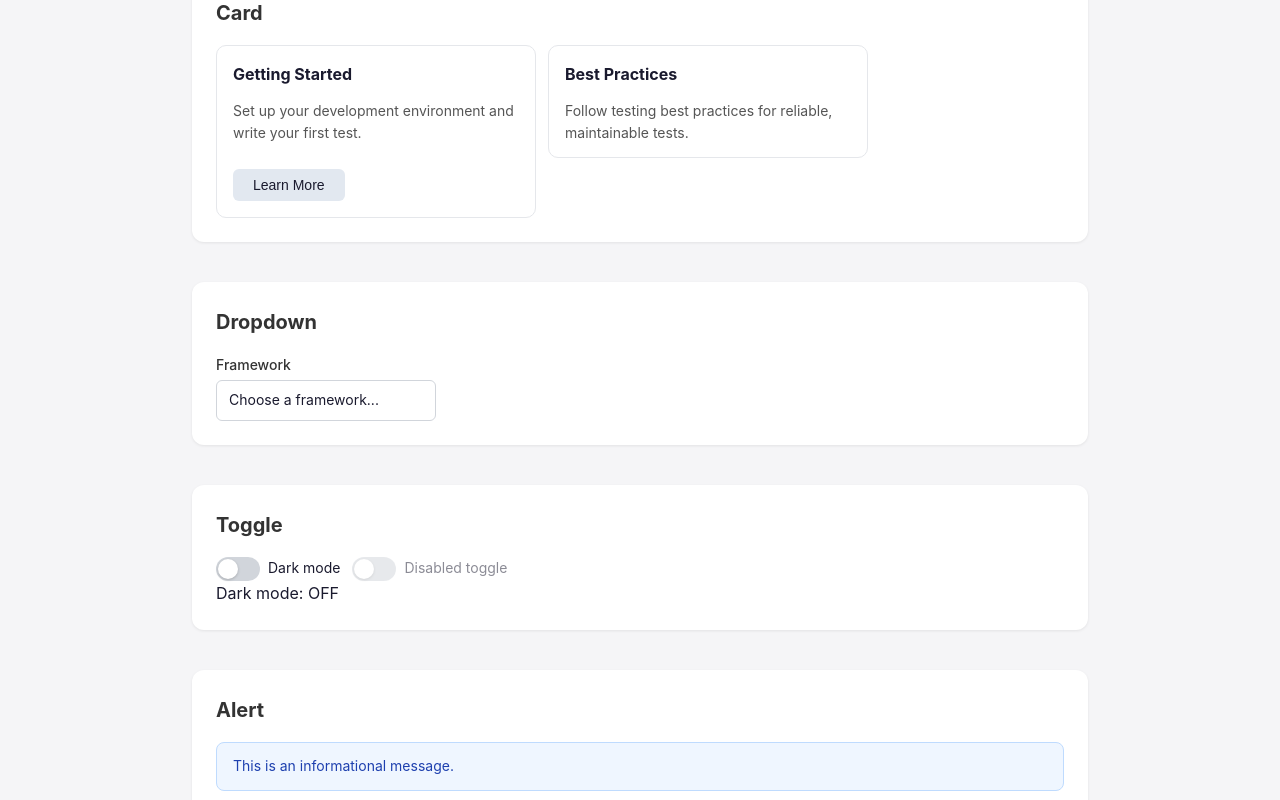
it: App integration › selects a dropdown value and toggles dark mode
The image size is (1280, 800).
(page scrolled)
Click the dropdown labelled "Choose a framework..." at (326, 400), box [216,380,436,420]
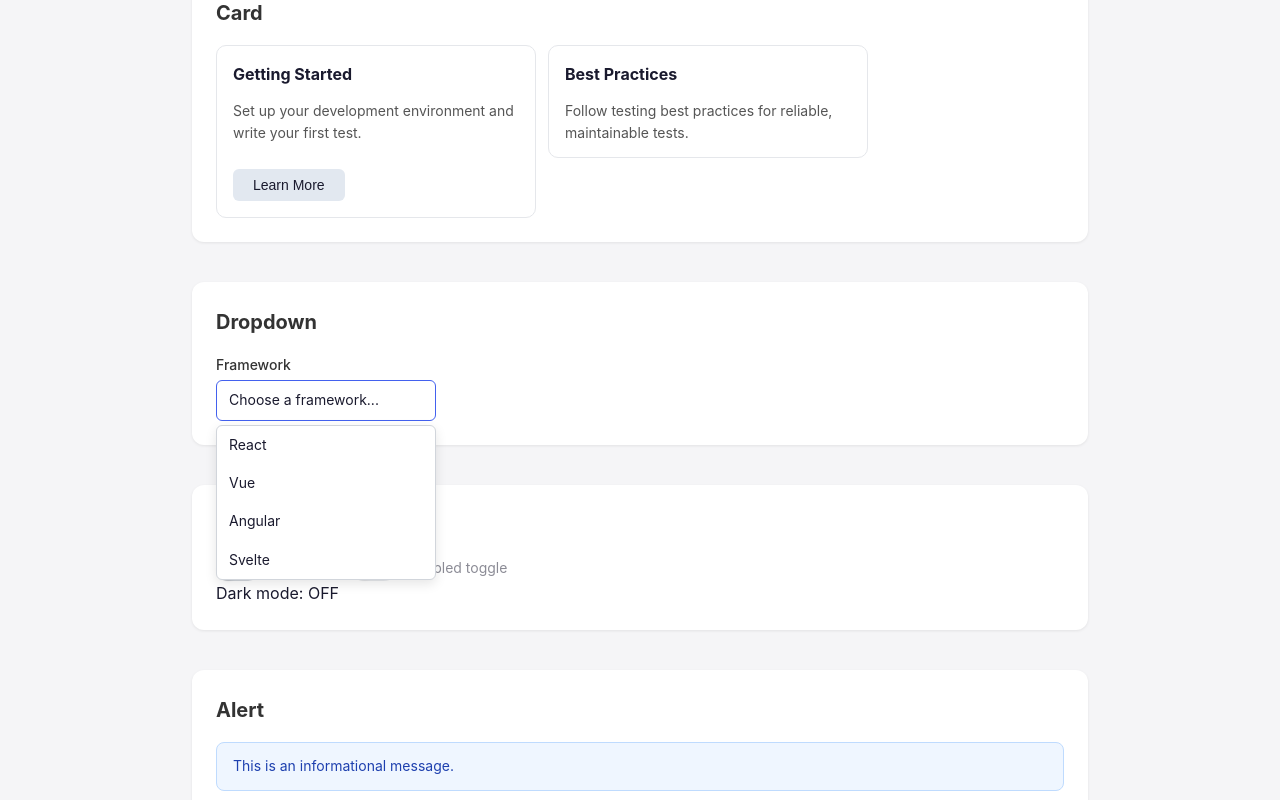
Click the option "React" at (248, 444), box [229,436,266,452]
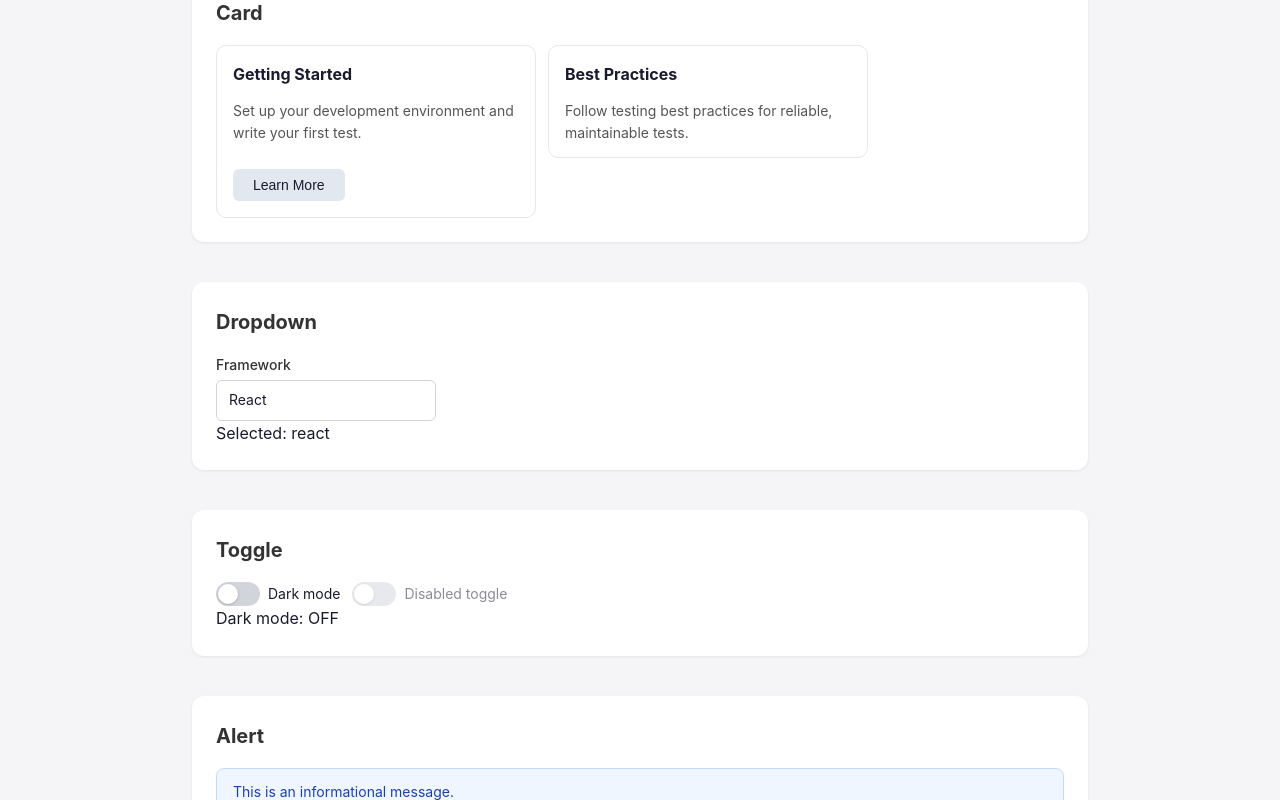
Now the text "Selected: react" is shown, box [216,422,330,442]
Click the switch named "dark mode" at (238, 594), box [216,582,260,606]
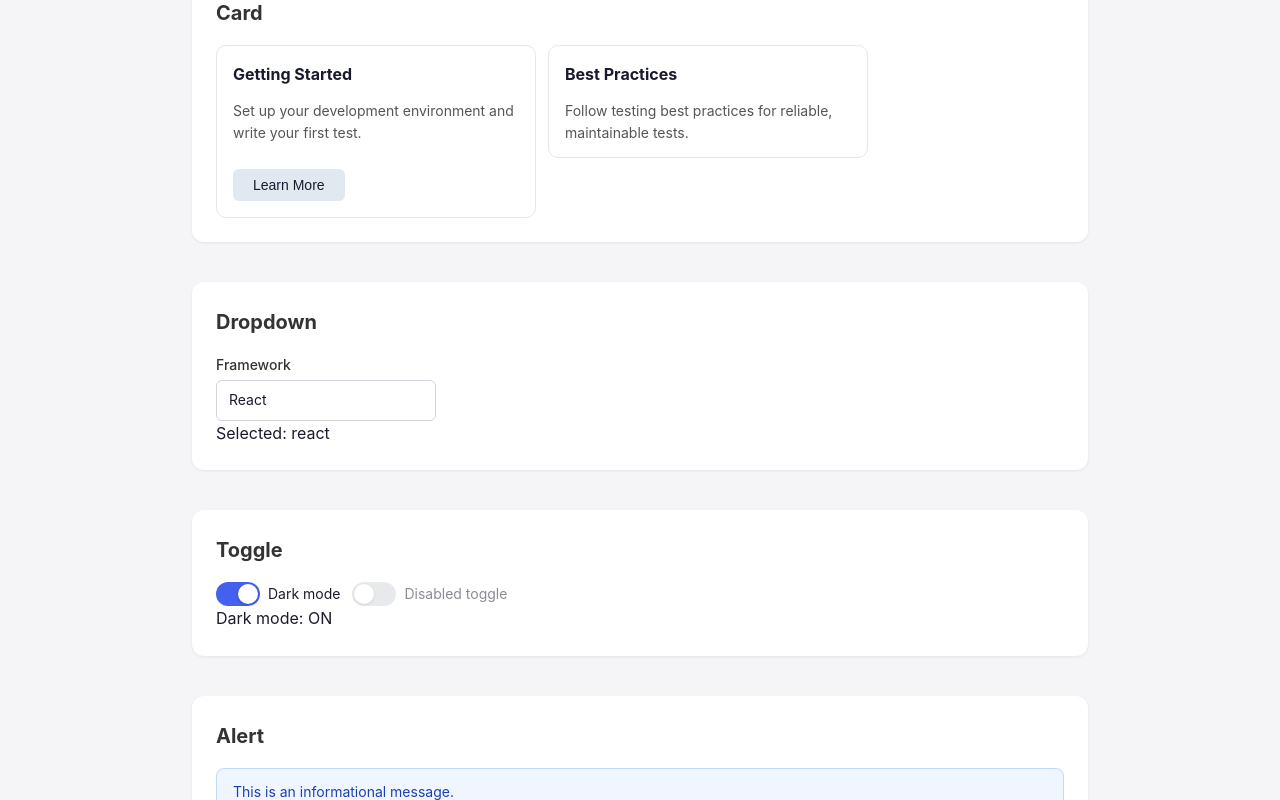
Now the text "Dark mode: ON" is shown, box [216,608,332,628]
